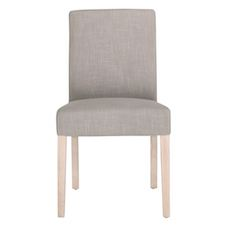chair: (27, 4, 195, 224)
